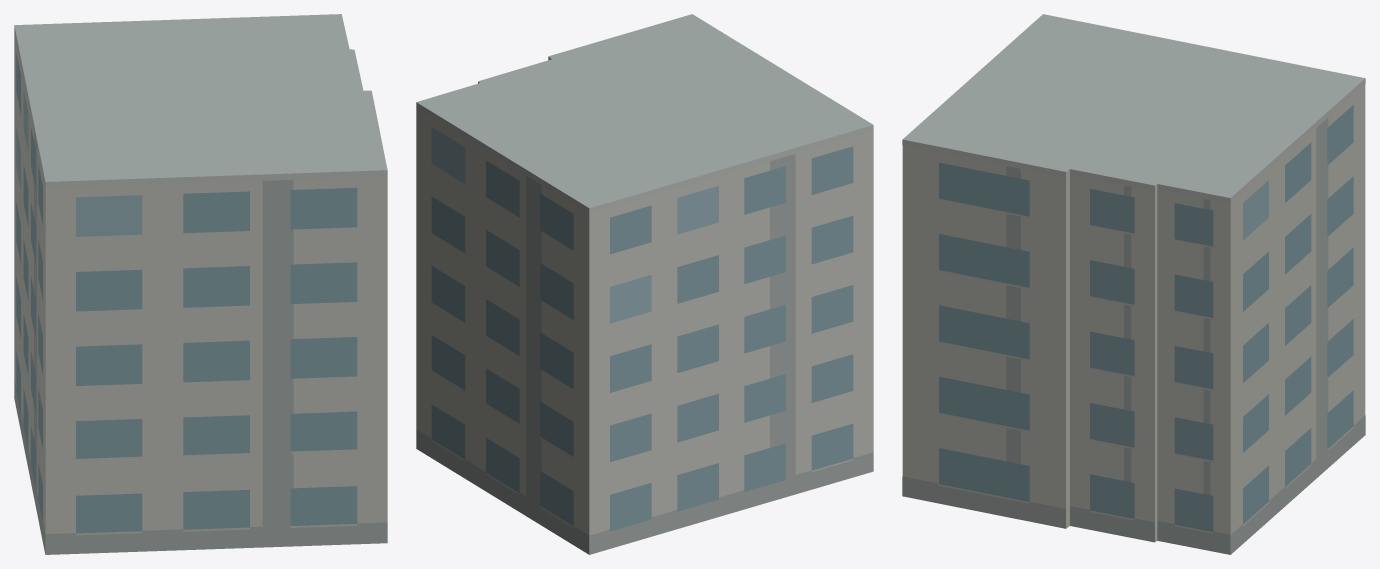
The model's file is survey-upis-32874627.glb.
3 views of the same model, side by side, from view 1: azimuth 30°, elevation 25°; view 2: azimuth 150°, elevation 25°; view 3: azimuth 270°, elevation 25° (orthographic). The views are drawn at different scales.
Visible parts, largest first — view 1: survey-upis-32874627.tmp; view 2: survey-upis-32874627.tmp; view 3: survey-upis-32874627.tmp.
Boxes of the visible parts, x1=… form: survey-upis-32874627.tmp: x1=14, y1=14, x2=387, y2=554; survey-upis-32874627.tmp: x1=416, y1=14, x2=873, y2=554; survey-upis-32874627.tmp: x1=902, y1=14, x2=1365, y2=554.
Size of the model in its own units: 15.94 by 14.4 by 16.94.
